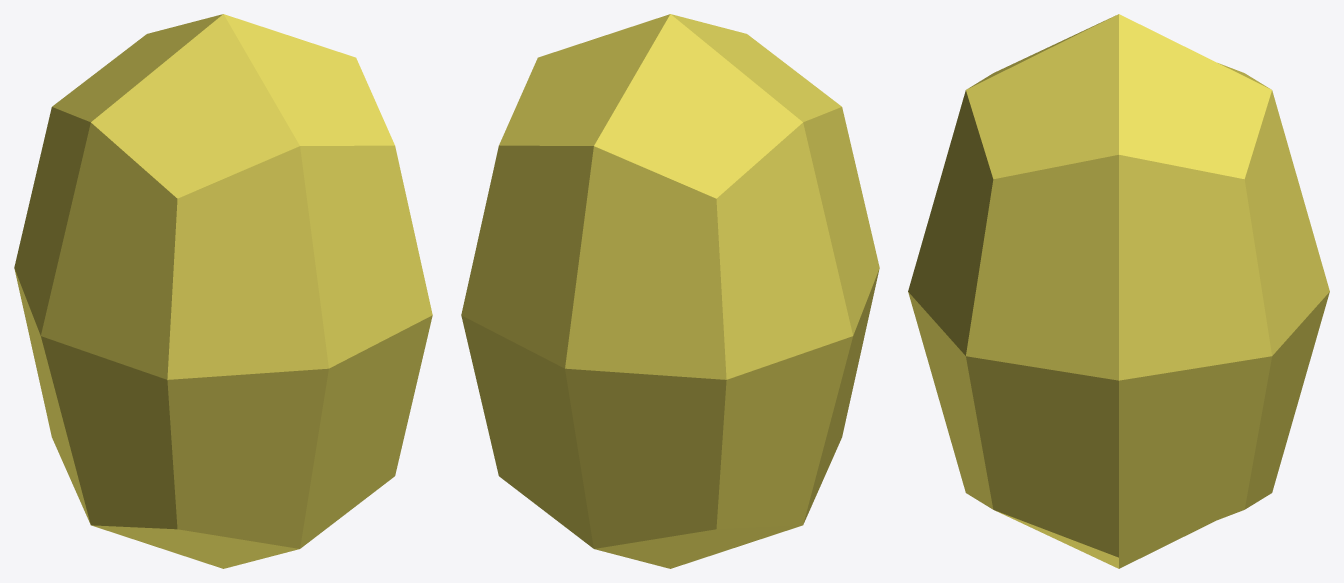
Rendered from bread.fbx.
3 renders of one model, left to right at view 1: azimuth 30°, elevation 25°; view 2: azimuth 150°, elevation 25°; view 3: azimuth 270°, elevation 25°, orthographic.
Visible parts, largest first — view 1: _bread; view 2: _bread; view 3: _bread.
Boxes of the visible parts, bbox=[...] form: _bread: bbox=[14, 14, 432, 568]; _bread: bbox=[461, 14, 879, 568]; _bread: bbox=[908, 14, 1329, 568].
Size of the model in its own units: 95.03 by 138 by 95.03.
